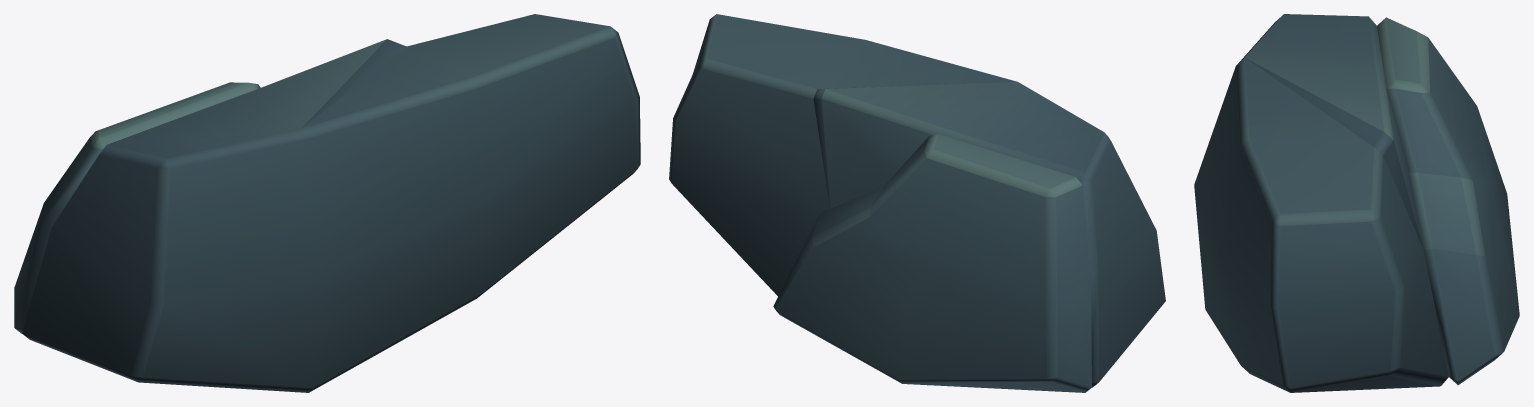
Rendered from rock_26.fbx.
3 renders of one model, left to right at view 1: azimuth 30°, elevation 25°; view 2: azimuth 150°, elevation 25°; view 3: azimuth 270°, elevation 25°, orthographic. The views are drawn at different scales.
Parts seen in each view (by area): view 1: rock_26; view 2: rock_26; view 3: rock_26.
Part boxes in pixels (x1,y1,x2,y2): rock_26: (14, 14, 640, 392); rock_26: (669, 14, 1165, 392); rock_26: (1194, 14, 1519, 392).
Size of the model in its own units: 744 by 368 by 367.
